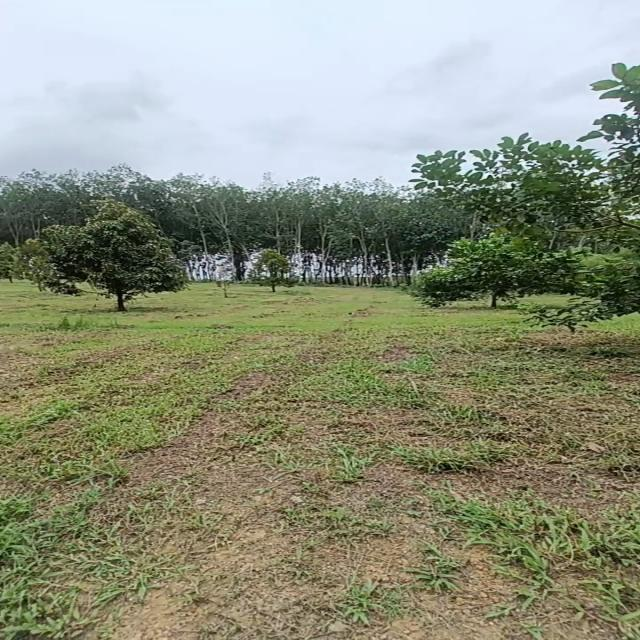Tree: (62, 209, 182, 314)
